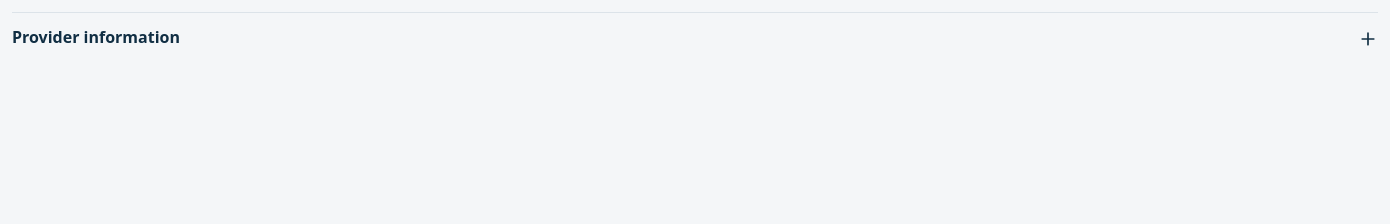
it: automatically finds and links the report on opening, then keeps it on this device
Click the button "Provider information". click: (96,37)
box: x1=12 y1=13 x2=1378 y2=61
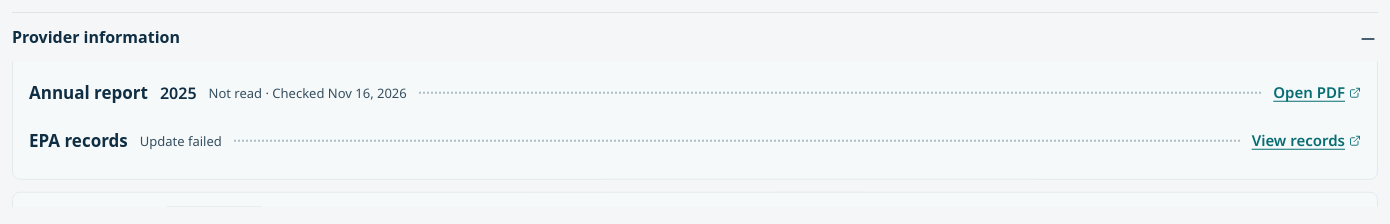
Now the text "Not read · Checked Nov 16, 2026" is shown, box x1=208 y1=87 x2=407 y2=107
